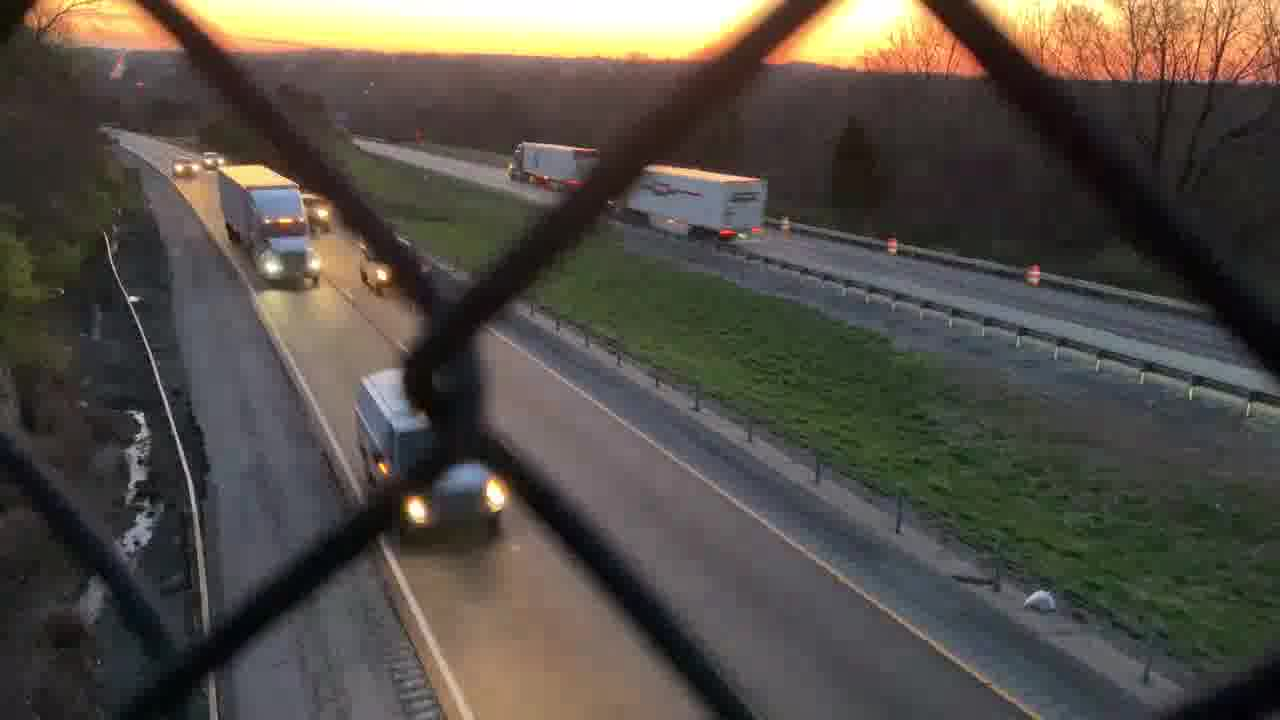heavyTruck: (214, 162, 319, 290), (619, 157, 769, 242), (506, 142, 596, 195)
lightTruck: (357, 367, 506, 537)
